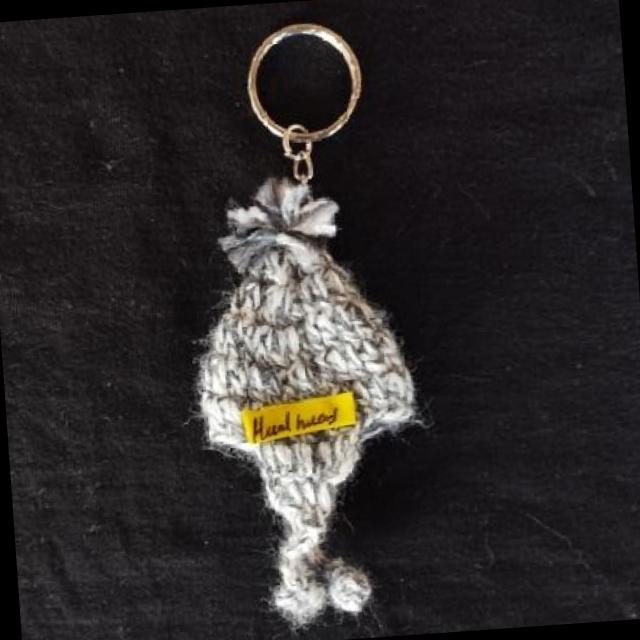Llavero: (176, 165, 438, 638)
